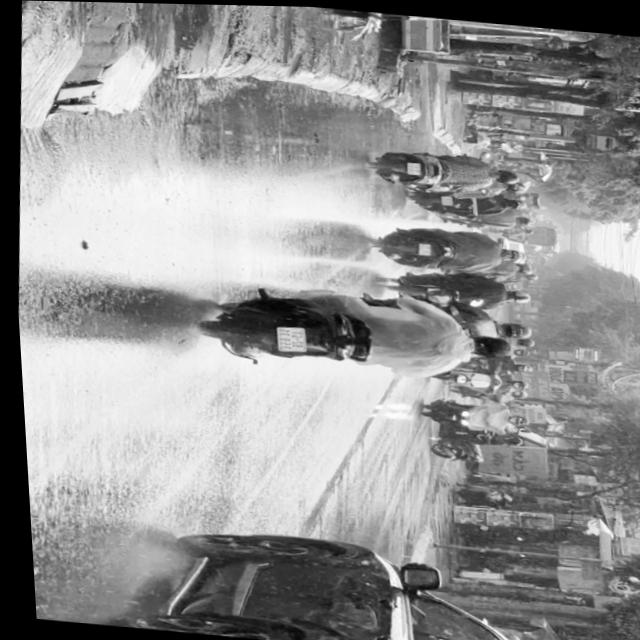helmet: (495, 318, 531, 338), (493, 165, 520, 181)
licenseplate: (187, 273, 534, 390), (368, 143, 528, 197)
motorcyclist: (465, 331, 513, 359)
nohelmet: (271, 324, 302, 350), (405, 159, 421, 173)
